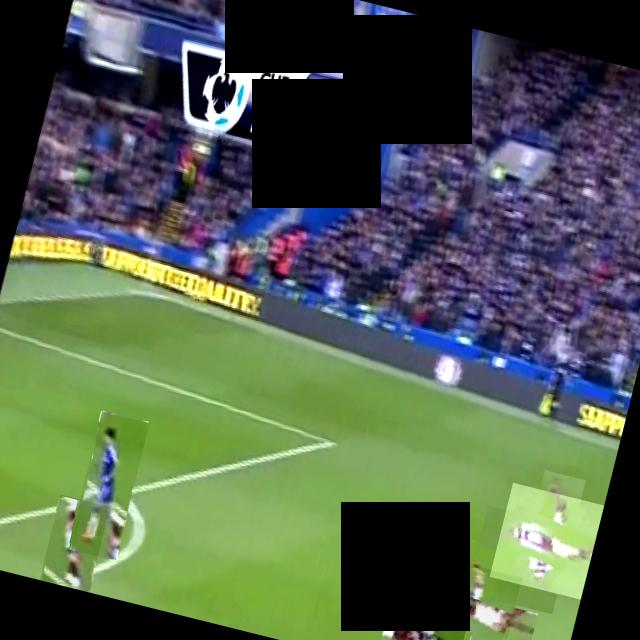soccer-player: (489, 482, 604, 600), (67, 410, 149, 560), (407, 554, 522, 640), (39, 494, 110, 592), (386, 589, 471, 640)
